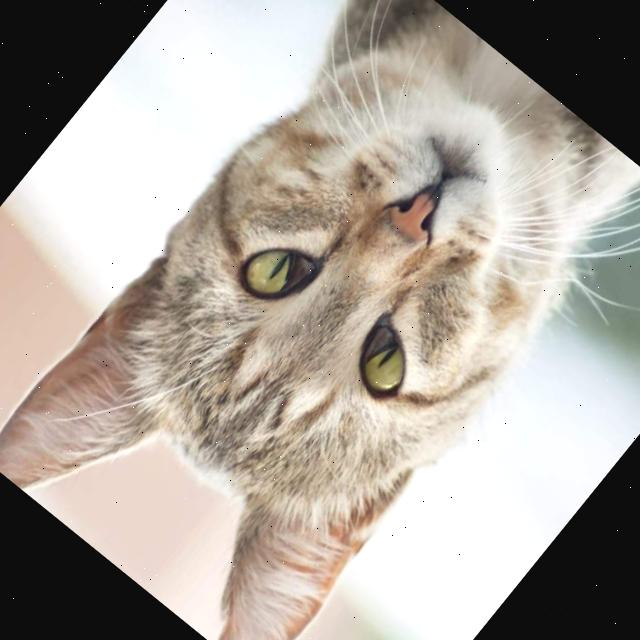cat-eye: (222, 219, 334, 333), (332, 305, 441, 417)
